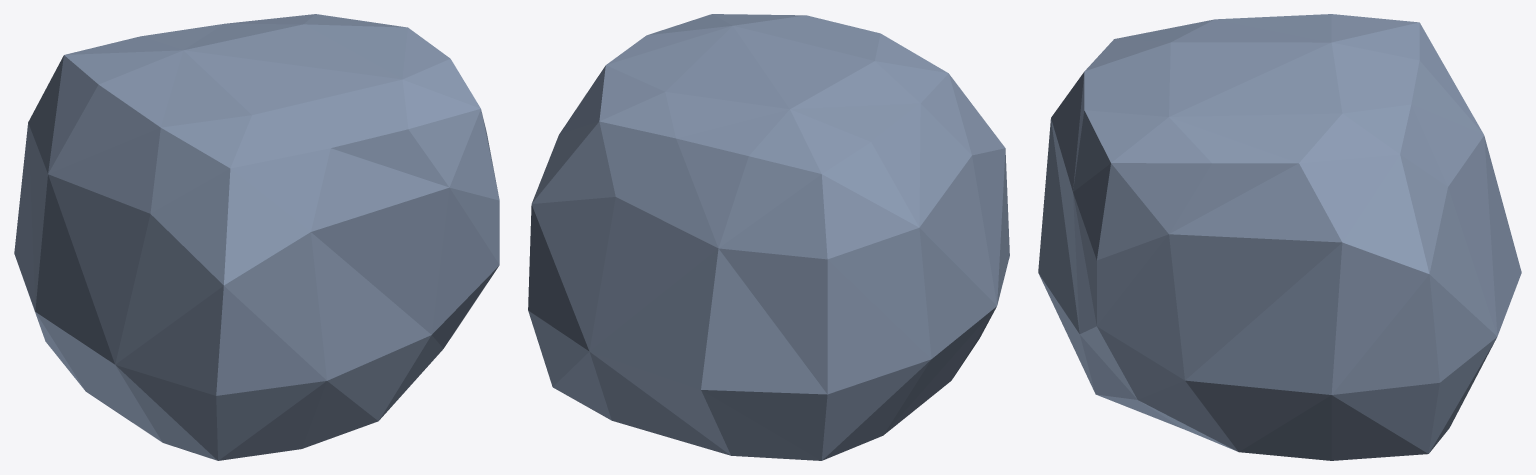
File: Plainstone 2.fbx
3 views of the same model, side by side, from view 1: azimuth 30°, elevation 25°; view 2: azimuth 150°, elevation 25°; view 3: azimuth 270°, elevation 25° (orthographic). The views are drawn at different scales.
Visible parts, largest first — view 1: Plainstone Size 2; view 2: Plainstone Size 2; view 3: Plainstone Size 2.
Part boxes in pixels (x1=…): Plainstone Size 2: x1=14, y1=14, x2=499, y2=460; Plainstone Size 2: x1=528, y1=14, x2=1009, y2=460; Plainstone Size 2: x1=1038, y1=14, x2=1521, y2=460.
Size of the model in its own units: 257 by 215 by 268.
